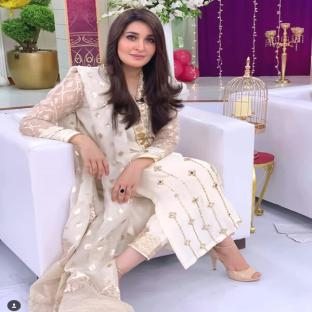Human: (19, 9, 261, 312)
